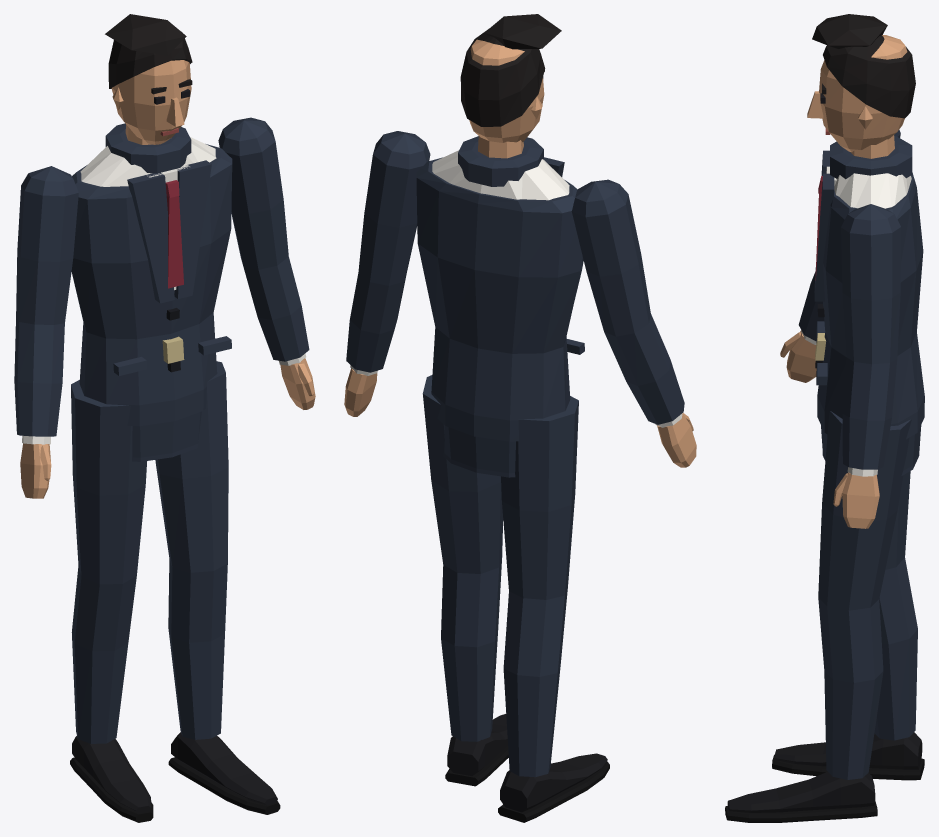
File: HUMAN_03.obj
3 views of the same model, side by side, from view 1: azimuth 30°, elevation 25°; view 2: azimuth 150°, elevation 25°; view 3: azimuth 270°, elevation 25° (orthographic).
Visible parts, largest first — view 1: jacket, legwear_R, legwear_L, sleeve_R, sleeve_L, shoe_L, shoe_R, head, hair, pelvis_bottom, torso, hand_R (+3 smaller); view 2: jacket, legwear_R, legwear_L, sleeve_R, sleeve_L, hair, shoe_R, torso, shoe_L, pelvis_bottom, head, hand_R (+2 smaller); view 3: legwear_L, jacket, sleeve_L, legwear_R, hair, shoe_L, head, shoe_R, torso, hand_L, hand_R, sleeve_R (+3 smaller).
Part boxes in pixels (x1,y1,x2,y2): jacket: (71,123,232,426); legwear_R: (71,380,146,743); legwear_L: (155,361,228,739); sleeve_R: (14,166,78,444); sleeve_L: (218,117,309,365); shoe_L: (168,732,280,814); shoe_R: (70,736,153,822); head: (111,60,191,144); hair: (105,14,192,88); pelvis_bottom: (132,411,201,461); torso: (80,137,216,186); hand_R: (20,443,51,498); jacket: (416,136,584,441); legwear_R: (501,396,578,777); legwear_L: (422,375,503,741); sleeve_R: (571,179,684,427); sleeve_L: (346,131,430,375); hair: (460,14,561,126); shoe_R: (498,753,609,822); torso: (432,150,569,200); shoe_L: (445,714,508,786); pelvis_bottom: (443,425,515,477); head: (469,39,544,142); hand_R: (657,413,696,467); legwear_L: (818,410,911,779); jacket: (814,136,924,439); sleeve_L: (841,204,900,476); legwear_R: (874,471,917,740); hair: (812,14,915,118); shoe_L: (725,772,877,822); head: (819,35,907,151); shoe_R: (772,732,924,780); torso: (834,173,911,208); hand_L: (833,472,879,528); hand_R: (780,330,816,382); sleeve_R: (798,130,900,344).
Bounding box in the file's own units: 0.8039 × 1.88 × 0.4442.
